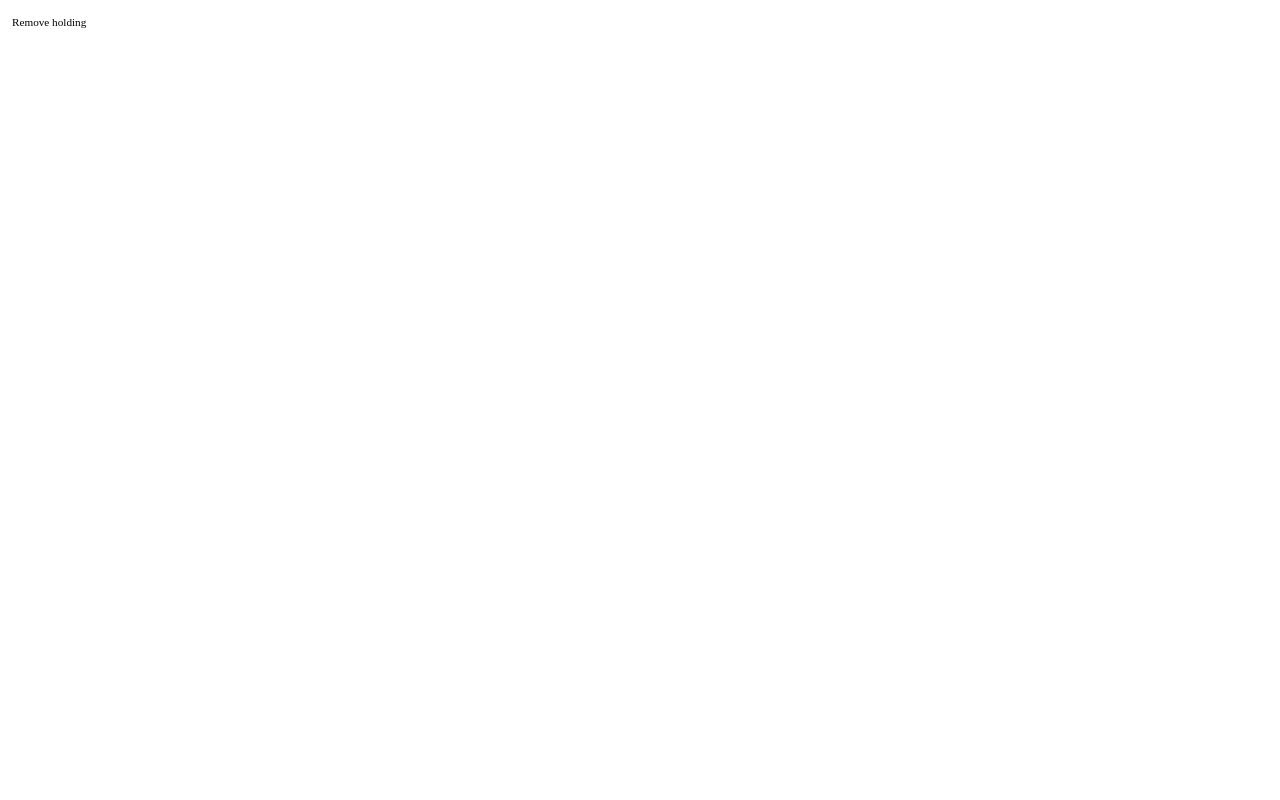
Test: keeps confirmation explicit and returns focus on cancel and Escape (en)
The image size is (1280, 800).
Later steps or results of the test are not shown.
Click the button "Remove holding". click: click(49, 22)
box: [8,8,90,36]
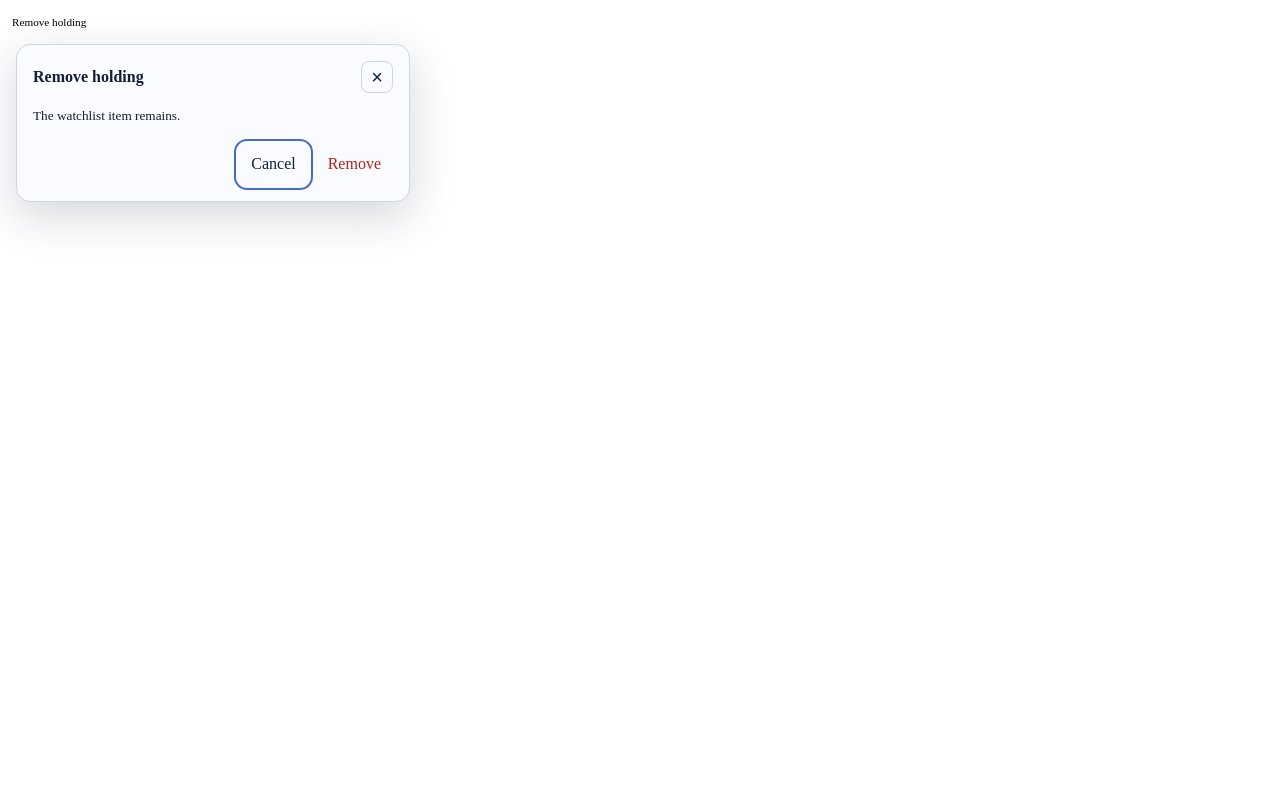
Now the dialog shows "watchlist item remains", box [33,108,180,123]
